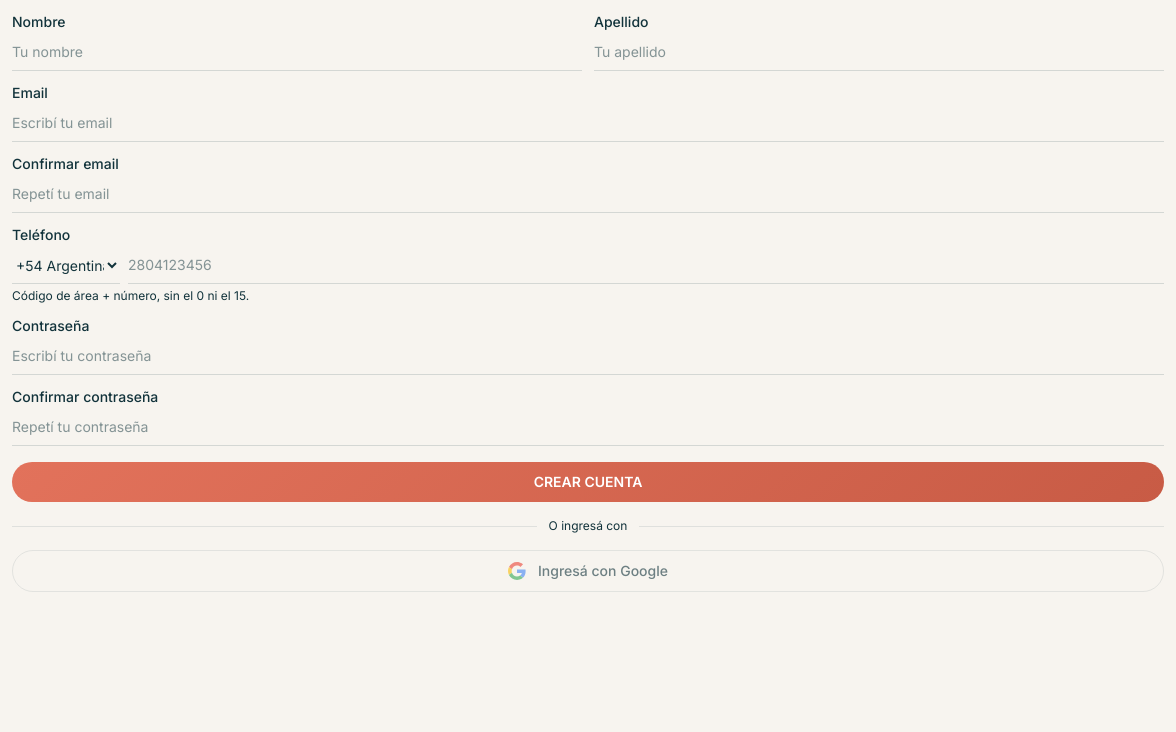
Test: RegisterForm › contraseña y confirmar contraseña distintas: no envía, muestra error propio
Step 1. Type "Ana" into the field labelled "Nombre" → (297, 52), box [12,34,582,71]
Step 2. Type "Pérez" into the field labelled "Apellido" → (879, 52), box [594,34,1164,71]
Step 3. Type "ana@example.com" into the field labelled "Email" → (588, 124), box [12,105,1164,142]
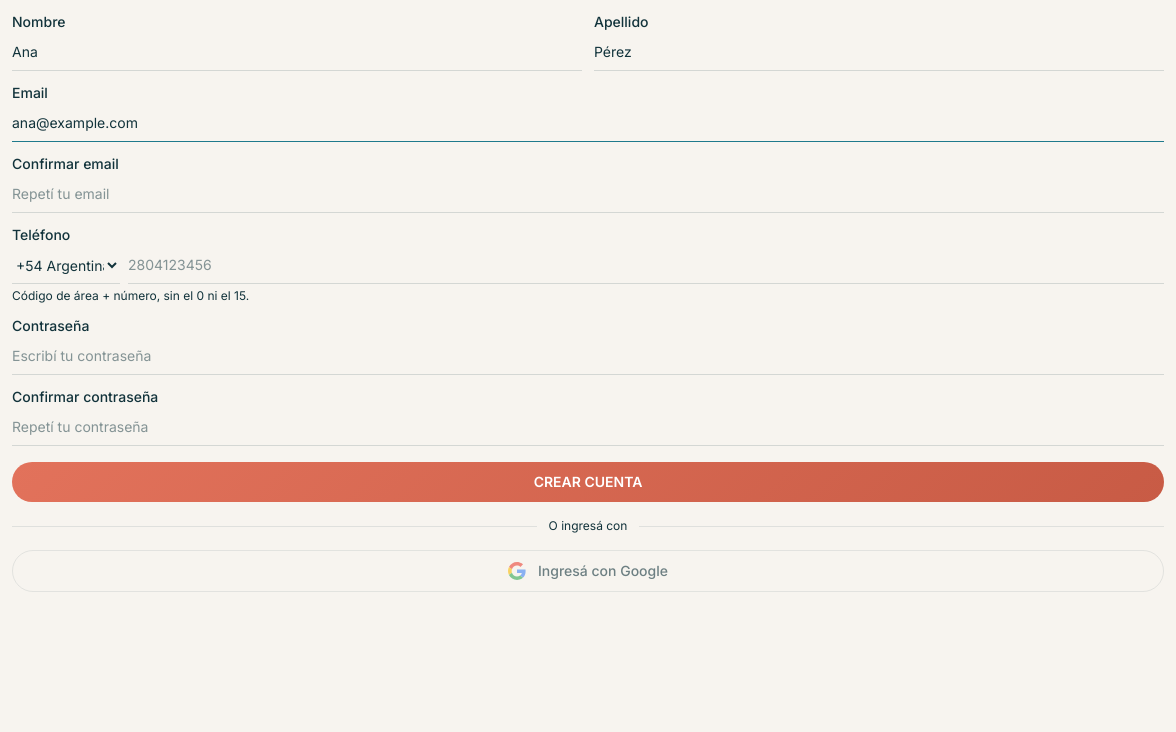
Step 4. Type "ana@example.com" into the field labelled "Confirmar email" → (588, 194), box [12,176,1164,213]
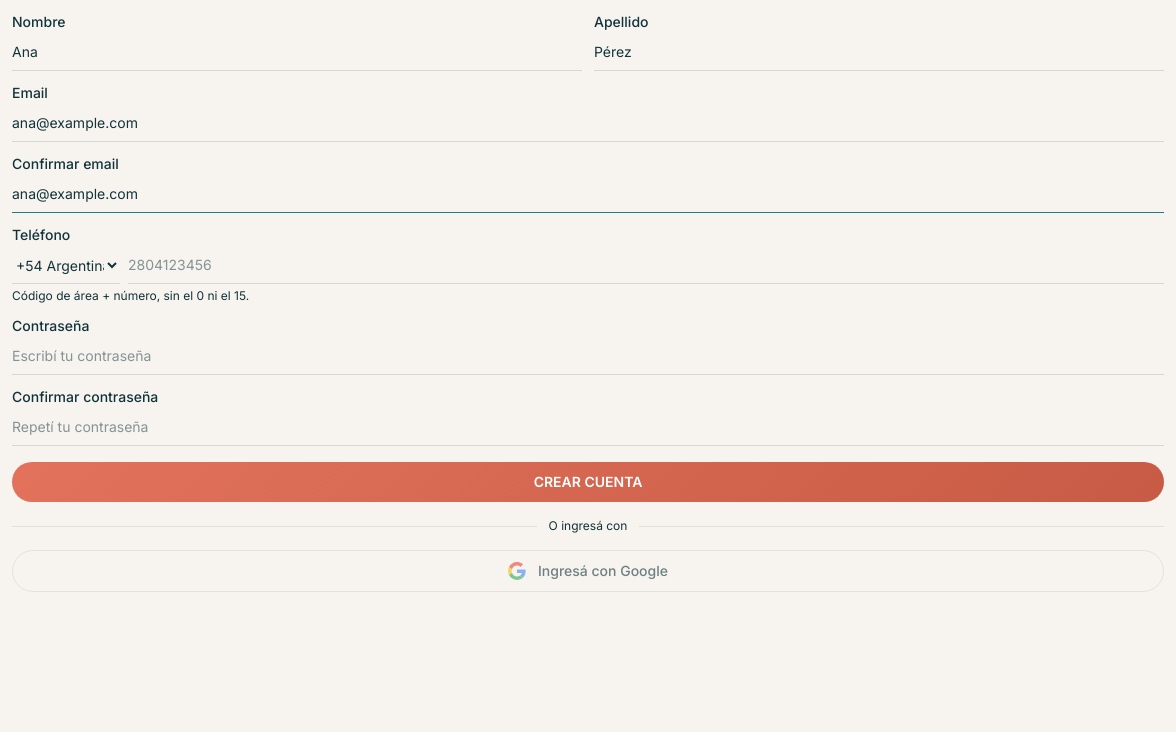
Step 5. Type "password123" into the password field labelled "Contraseña" → (588, 356), box [12,338,1164,375]
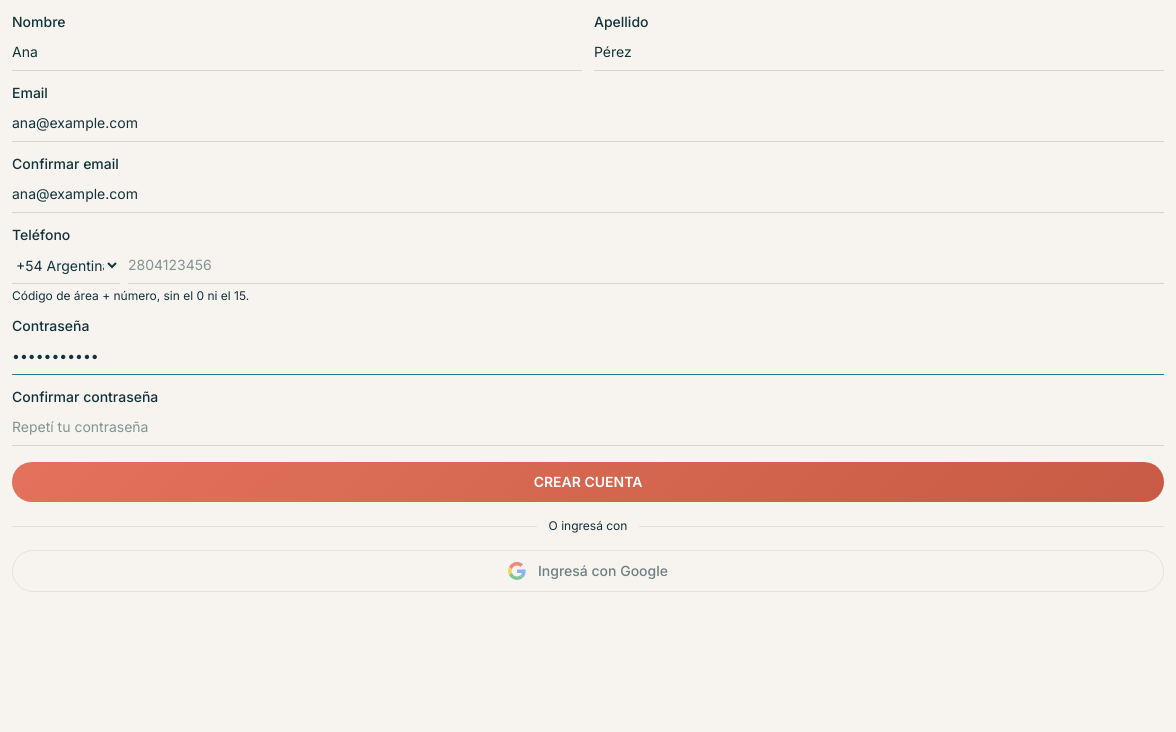
Step 6. Type "password123" into the password field labelled "Confirmar contraseña" → (588, 428), box [12,409,1164,446]
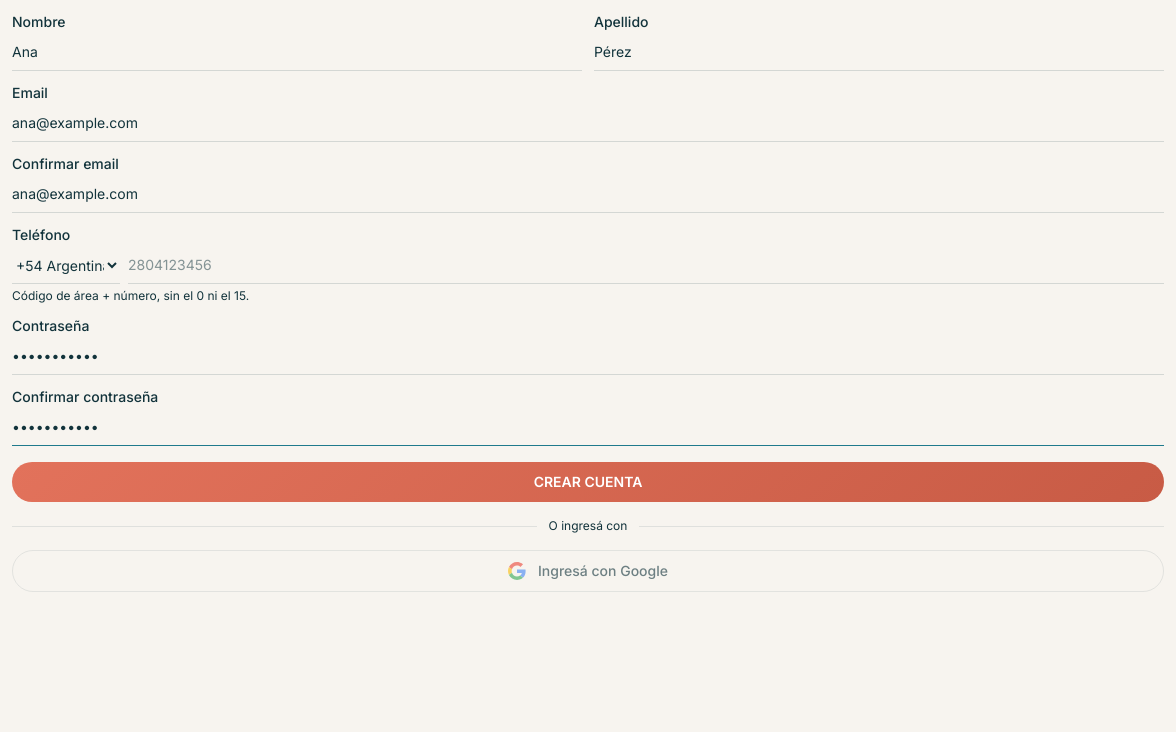
Step 7. Type "otraPassword123" into the password field labelled "Confirmar contraseña" → (588, 428), box [12,409,1164,446]
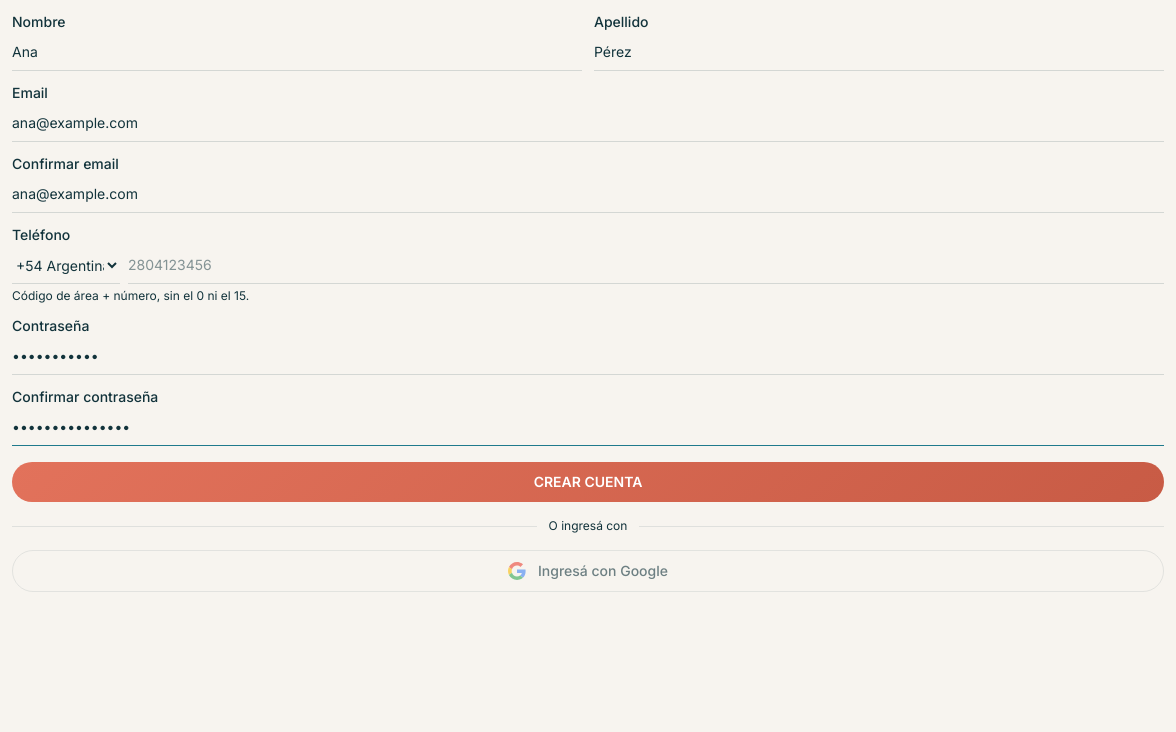
Step 8. Click the button "Crear cuenta" → (588, 482), box [12,462,1164,502]
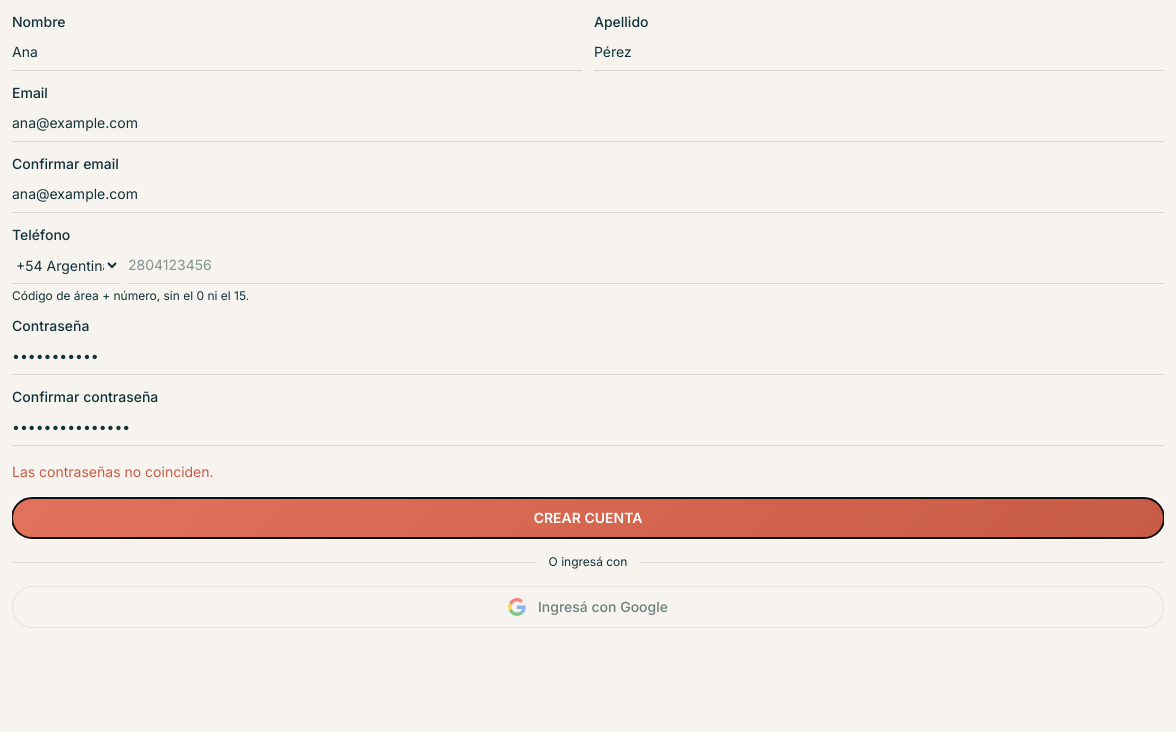
Expected: the message reads "Las contraseñas no coinciden.", [12,463,214,480]
